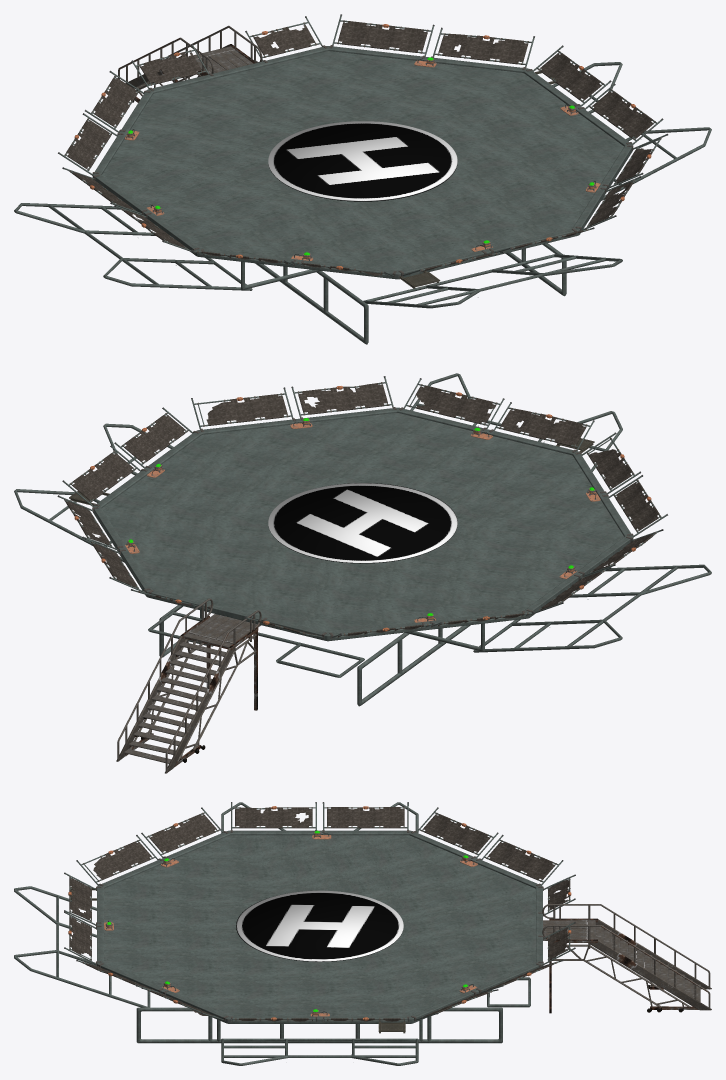
File: helipad.dae
3 renders of one model, top to bottom at view 1: azimuth 30°, elevation 25°; view 2: azimuth 150°, elevation 25°; view 3: azimuth 270°, elevation 25°, orthographic. The views are drawn at different scales.
Visible parts, largest first — view 1: node_a8147c9a_4365_4837_a15c_bb7815e2660e_mesh0, node_1be291a9_c2c3_4073_a977_750598bd7df4_mesh0, node_34ac6018_adb4_4bc9_928a_21db1924d4ff_mesh0, node_ef7f51a5_3190_41ec_970b_298ba4e13f58_mesh0, node_e078208c_76a3_4fca_8162_10f115d078a2_mesh0; view 2: node_a8147c9a_4365_4837_a15c_bb7815e2660e_mesh0, node_1be291a9_c2c3_4073_a977_750598bd7df4_mesh0, node_34ac6018_adb4_4bc9_928a_21db1924d4ff_mesh0, node_e078208c_76a3_4fca_8162_10f115d078a2_mesh0, node_ef7f51a5_3190_41ec_970b_298ba4e13f58_mesh0; view 3: node_a8147c9a_4365_4837_a15c_bb7815e2660e_mesh0, node_1be291a9_c2c3_4073_a977_750598bd7df4_mesh0, node_34ac6018_adb4_4bc9_928a_21db1924d4ff_mesh0, node_e078208c_76a3_4fca_8162_10f115d078a2_mesh0, node_ef7f51a5_3190_41ec_970b_298ba4e13f58_mesh0.
Part boxes in pixels (left/top/right/bottom): node_a8147c9a_4365_4837_a15c_bb7815e2660e_mesh0: left=14, top=15, right=711, bottom=344; node_1be291a9_c2c3_4073_a977_750598bd7df4_mesh0: left=66, top=21, right=653, bottom=276; node_34ac6018_adb4_4bc9_928a_21db1924d4ff_mesh0: left=268, top=121, right=457, bottom=201; node_ef7f51a5_3190_41ec_970b_298ba4e13f58_mesh0: left=58, top=14, right=668, bottom=288; node_e078208c_76a3_4fca_8162_10f115d078a2_mesh0: left=118, top=25, right=262, bottom=102; node_a8147c9a_4365_4837_a15c_bb7815e2660e_mesh0: left=14, top=373, right=711, bottom=706; node_1be291a9_c2c3_4073_a977_750598bd7df4_mesh0: left=65, top=383, right=659, bottom=637; node_34ac6018_adb4_4bc9_928a_21db1924d4ff_mesh0: left=268, top=483, right=457, bottom=563; node_e078208c_76a3_4fca_8162_10f115d078a2_mesh0: left=116, top=598, right=261, bottom=773; node_ef7f51a5_3190_41ec_970b_298ba4e13f58_mesh0: left=57, top=376, right=667, bottom=638; node_a8147c9a_4365_4837_a15c_bb7815e2660e_mesh0: left=14, top=802, right=574, bottom=1065; node_1be291a9_c2c3_4073_a977_750598bd7df4_mesh0: left=69, top=807, right=570, bottom=1021; node_34ac6018_adb4_4bc9_928a_21db1924d4ff_mesh0: left=236, top=890, right=403, bottom=961; node_e078208c_76a3_4fca_8162_10f115d078a2_mesh0: left=542, top=904, right=711, bottom=1013; node_ef7f51a5_3190_41ec_970b_298ba4e13f58_mesh0: left=64, top=802, right=575, bottom=1033.
Bounding box in the file's own units: 32.18 × 5.29 × 36.25.
7 materials, 6 textured.
